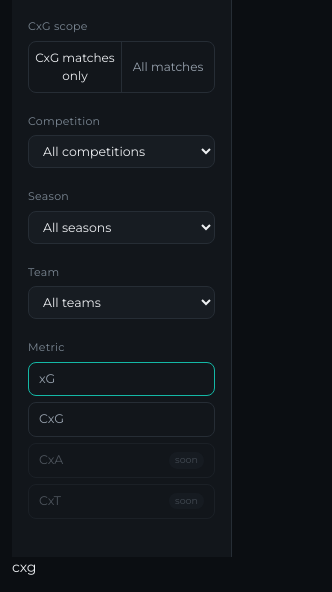
Test: Sidebar › clicking "All matches" flips scope state and syncs the URL
The width and height of the screenshot is (332, 592).
Click the button "All matches".
click(168, 66)  # box x1=121 y1=42 x2=214 y2=92
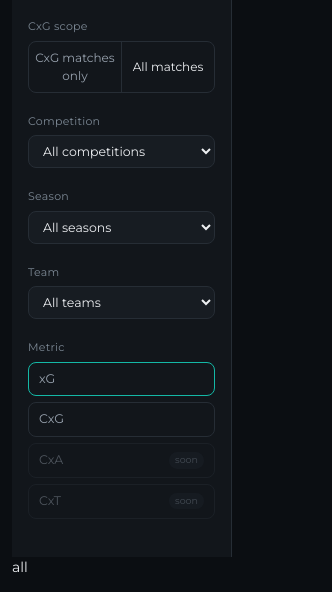
expect the text with test id "cxg-scope" reads "all": met, box x1=12 y1=558 x2=28 y2=576
